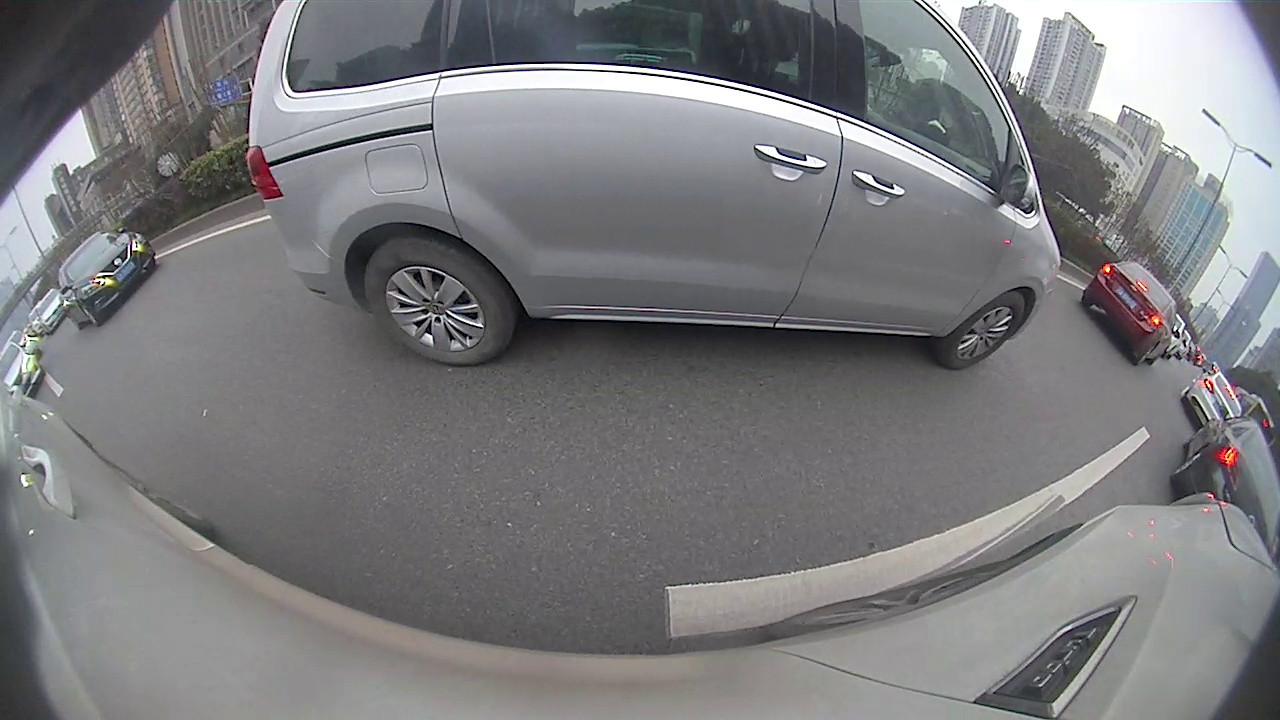car: (244, 1, 1063, 371), (1167, 403, 1278, 550), (1078, 259, 1183, 367), (58, 224, 156, 330), (1180, 368, 1247, 426), (1, 341, 45, 400)
front: (942, 290, 1025, 369)
rear: (364, 238, 515, 366)
